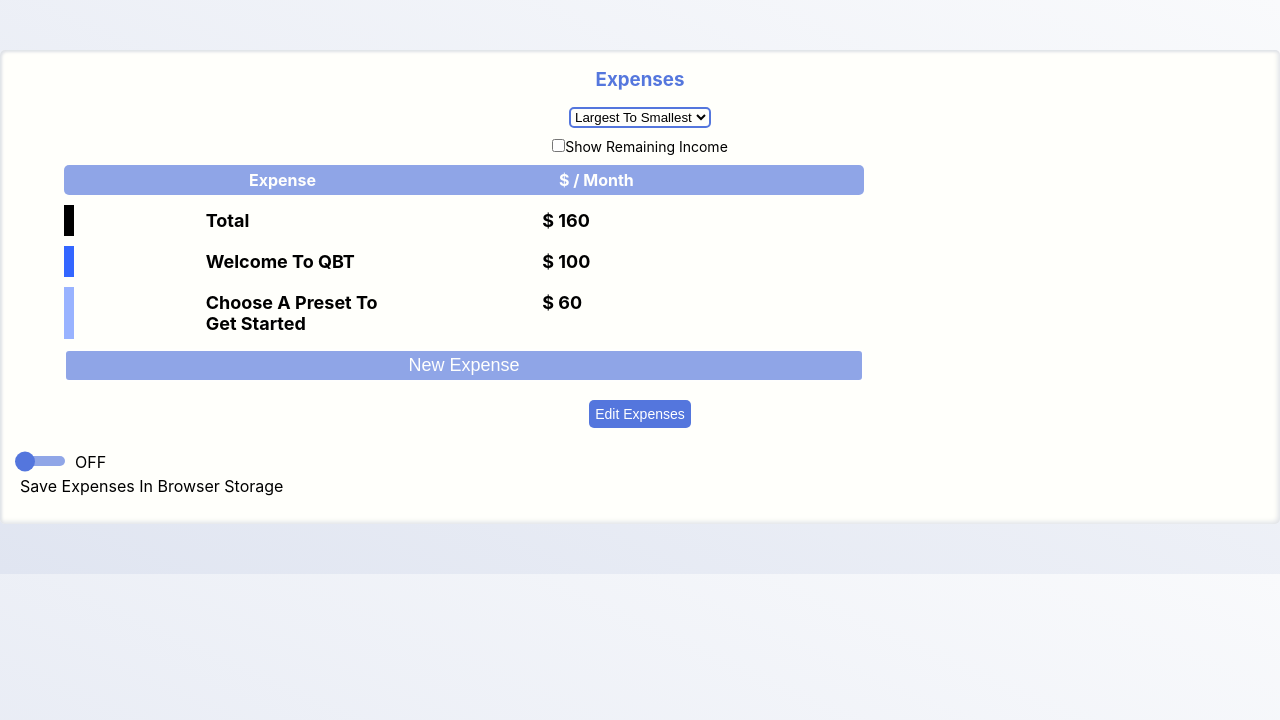
Add New Expense Functionality
Click the button "New Expense". click: (464, 366)
box: [64,349,864,382]
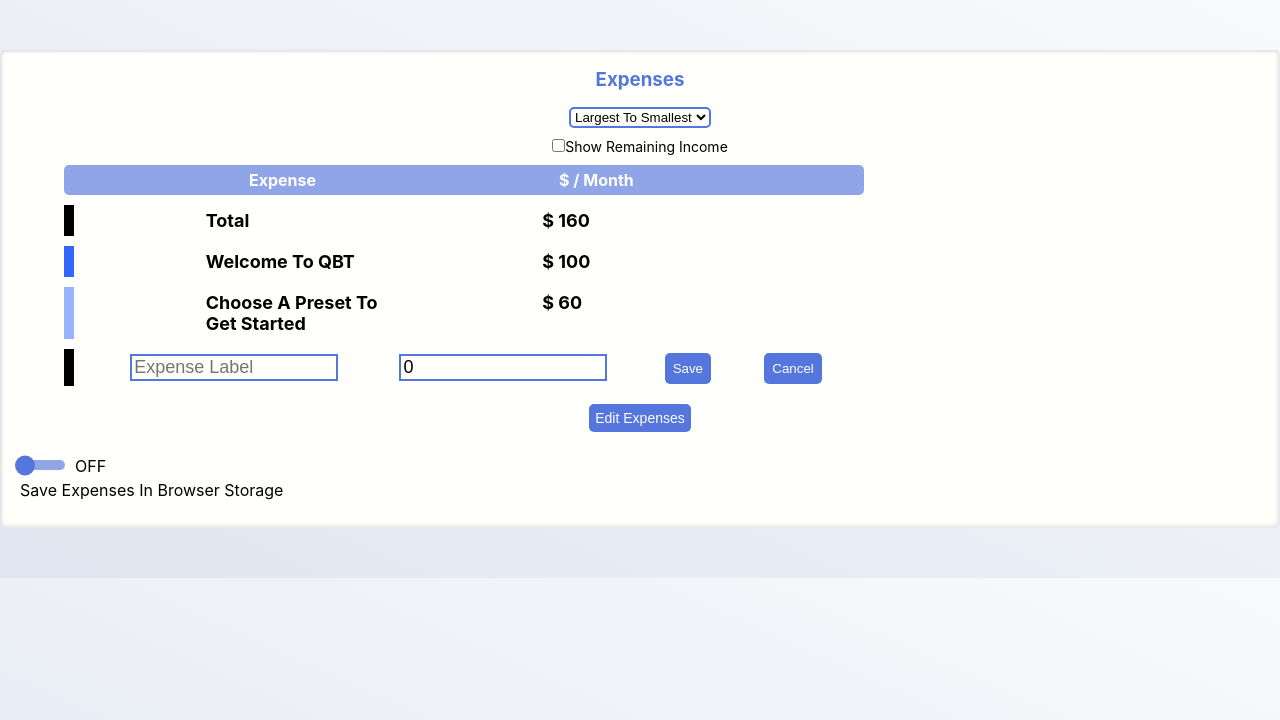
Check: the field with placeholder "Expense Label" is shown
Check: the number field is shown, box [399,354,607,381]
Check: the button "Save" is shown, box [665,353,711,384]
enter info then click save
Type "New Expense Test" into the field with placeholder "Expense Label". click: (234, 368)
box: [130,354,338,381]
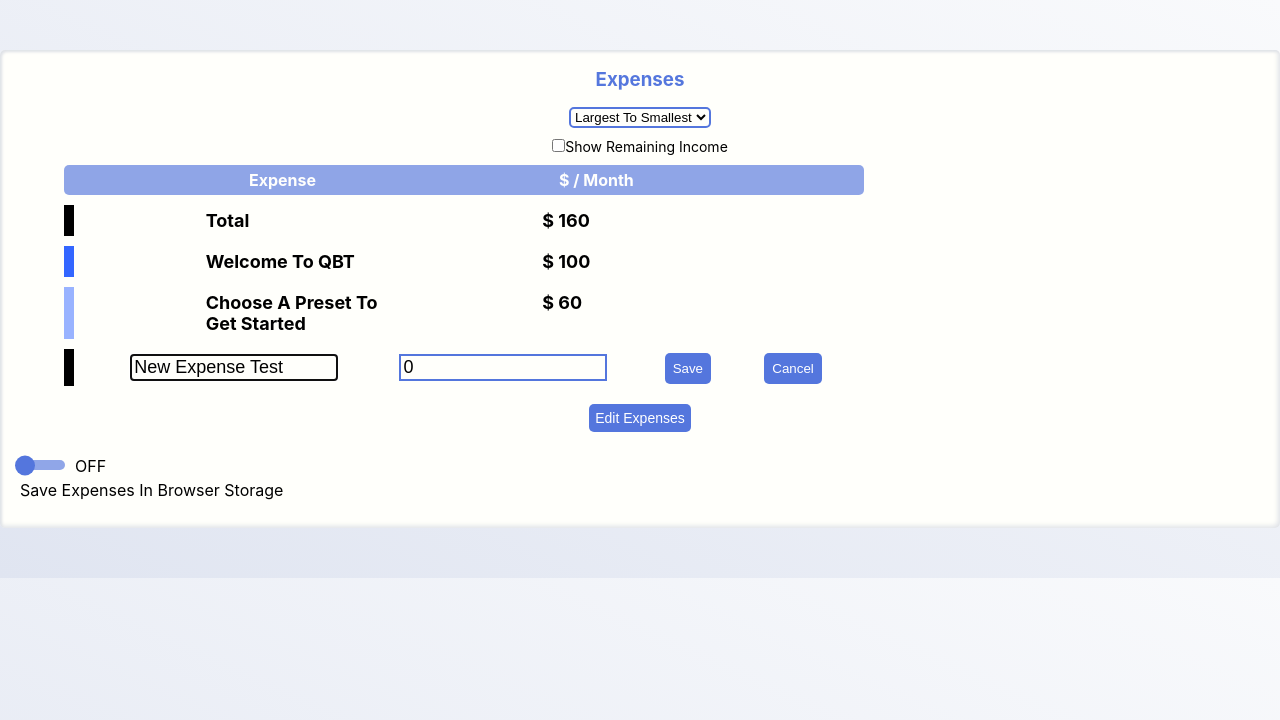
Type "263" into the number field. click: (503, 368)
box: [399,354,607,381]
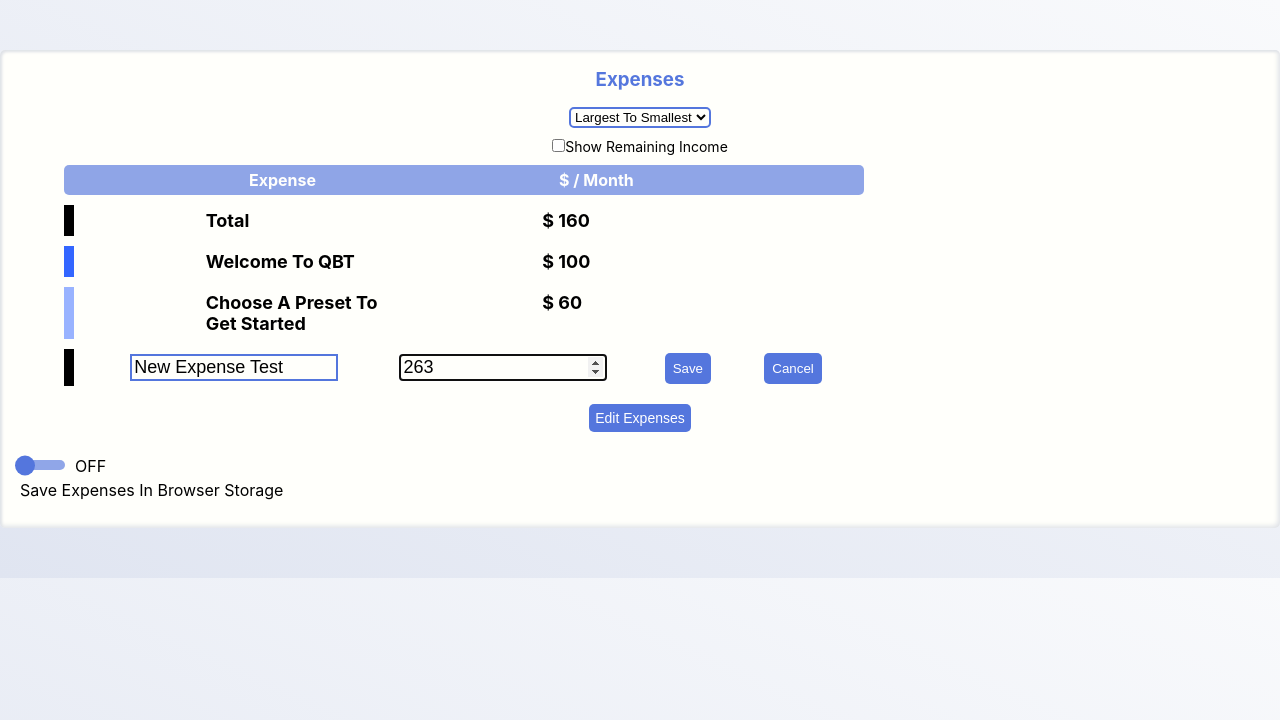
Click the button "Save". click: (688, 368)
box: [665,353,711,384]
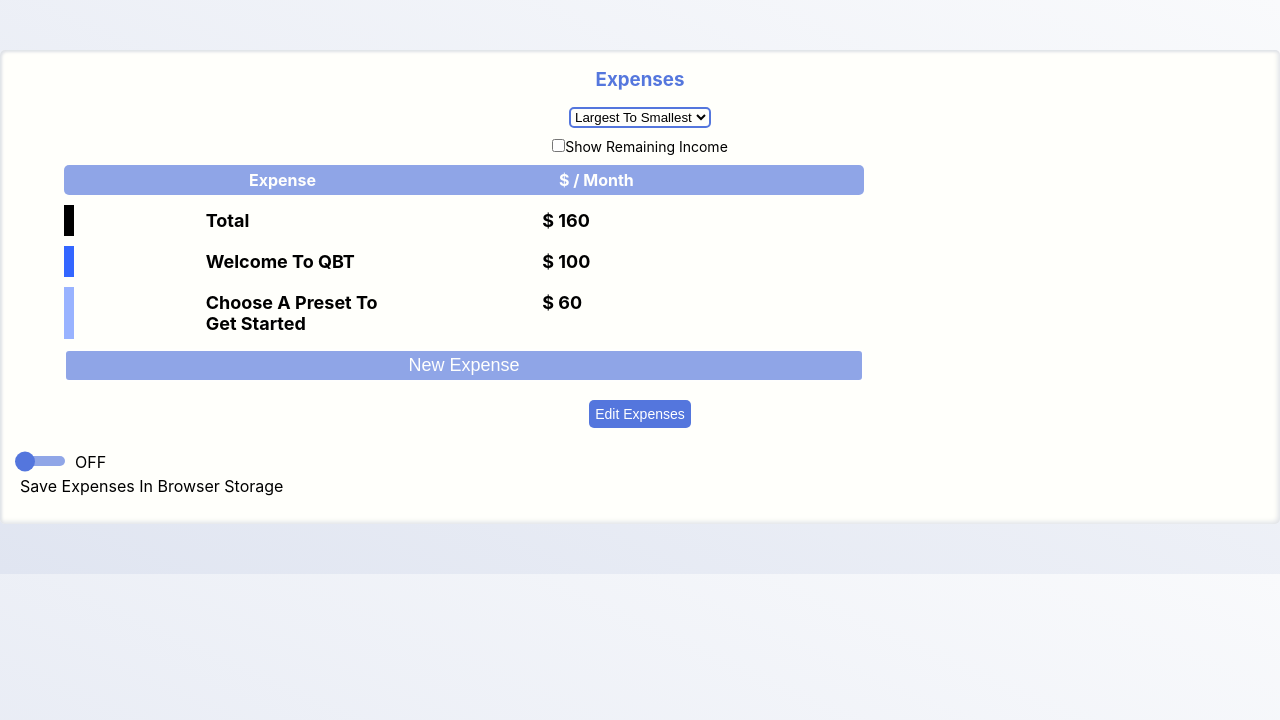
Check: the button "New Expense" is shown, box [64,349,864,382]
